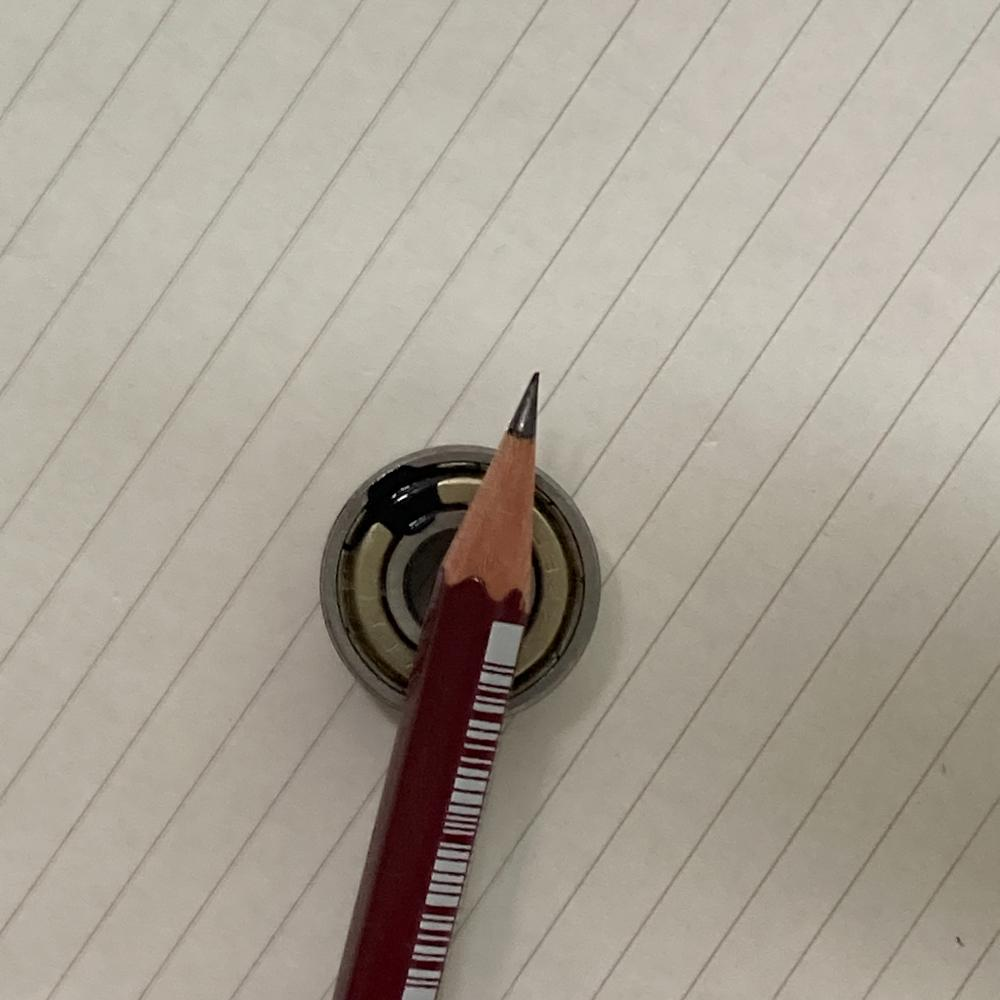ball_bearing_oil_stain: (315, 440, 604, 726)
